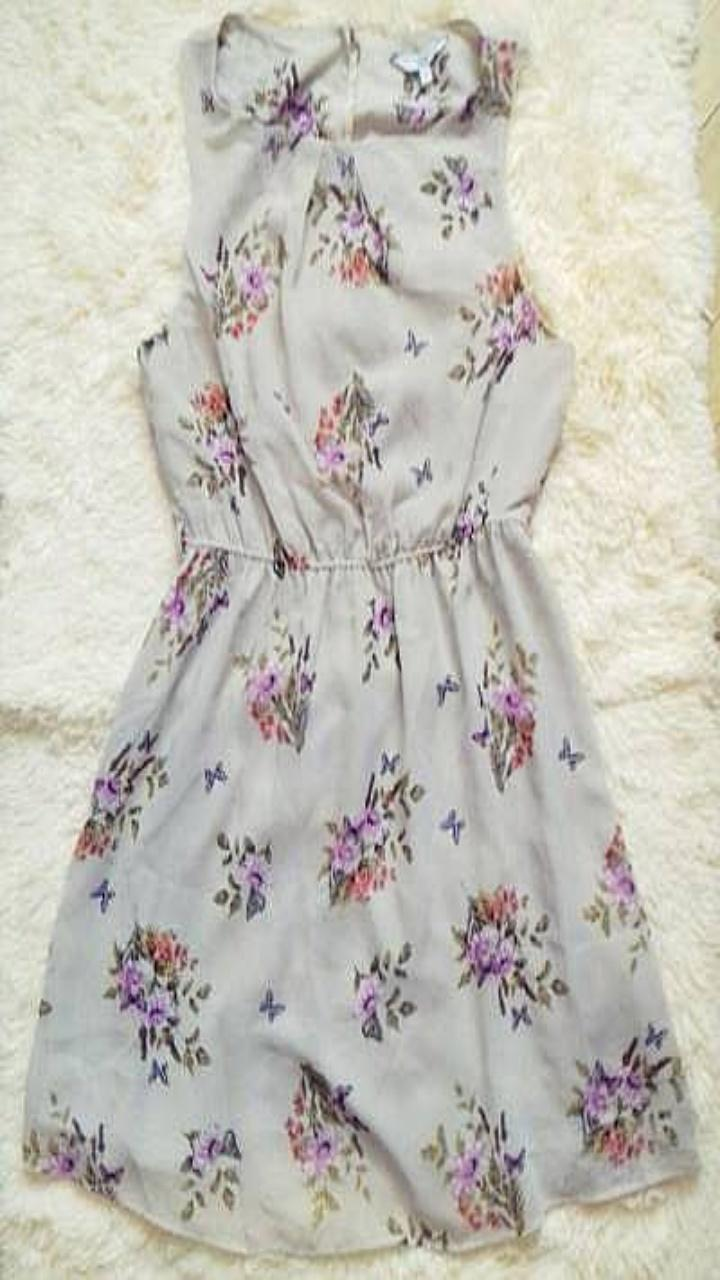Dresses: (24, 14, 699, 1253)
